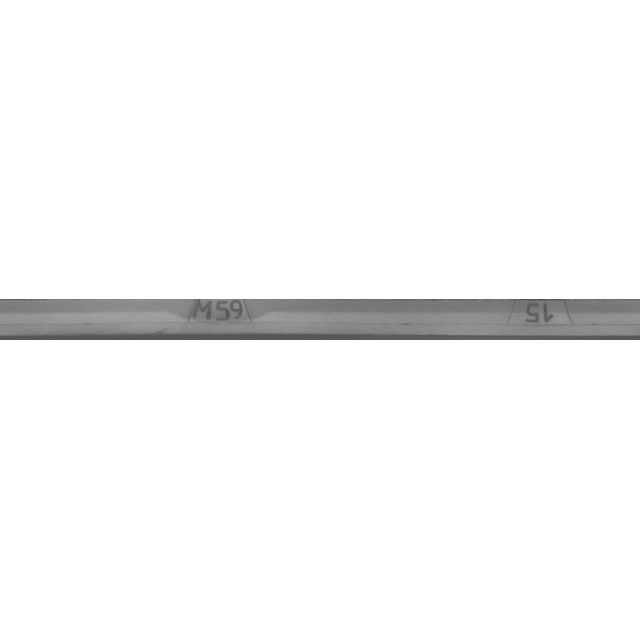mohao: (119, 270, 319, 370)
xuehao: (436, 270, 636, 370)
